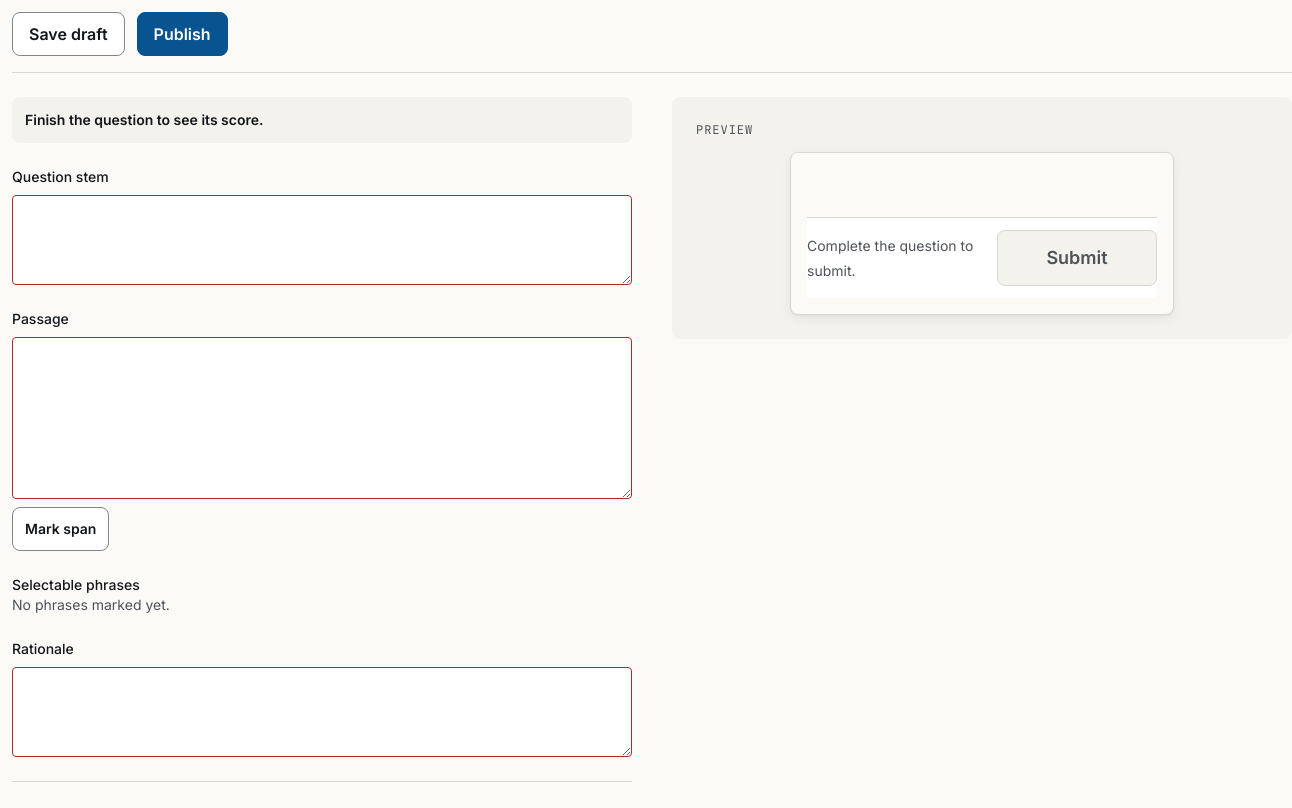
Test: HighlightTextEditor › marks the selected phrase as a span, listed with its own correct checkbox
Click the text box labelled "Passage" at point(322, 418), box [12, 337, 632, 499]
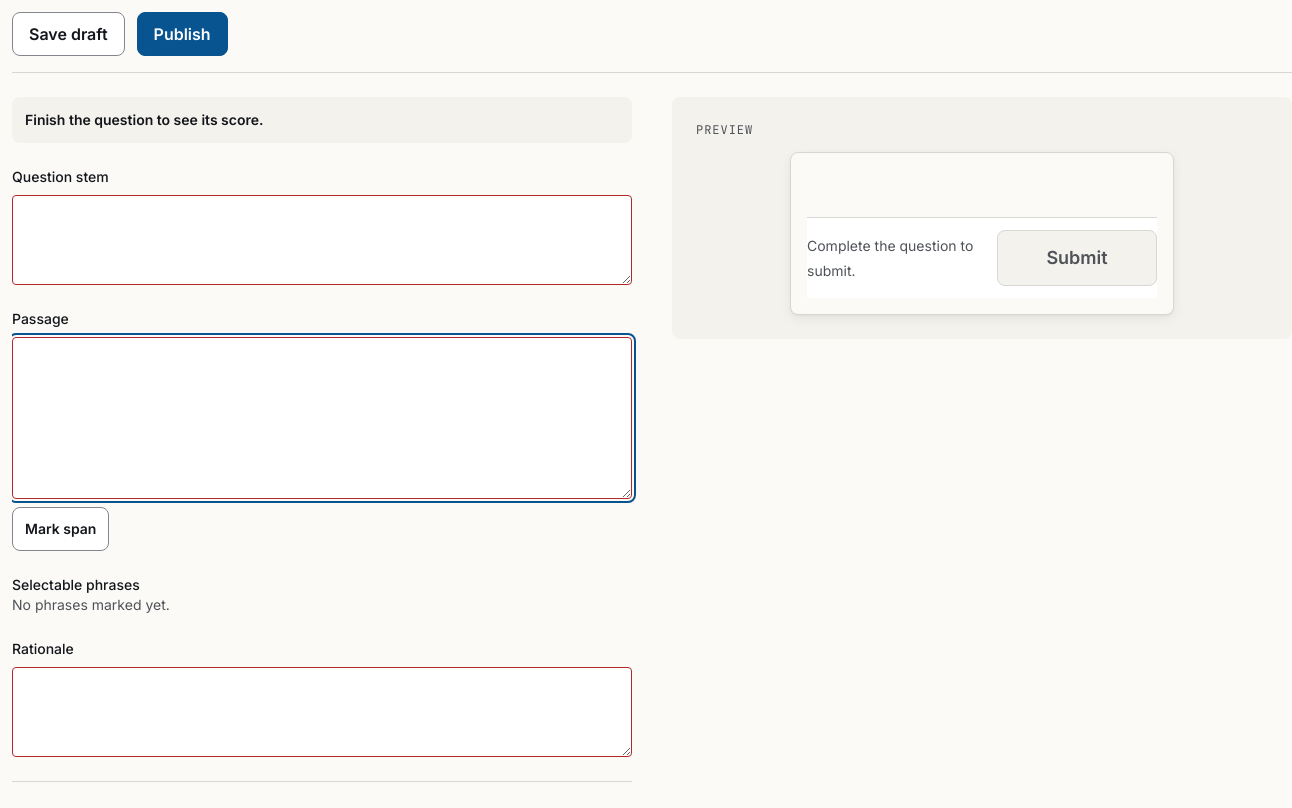
Type keys "Pulse 120 today"
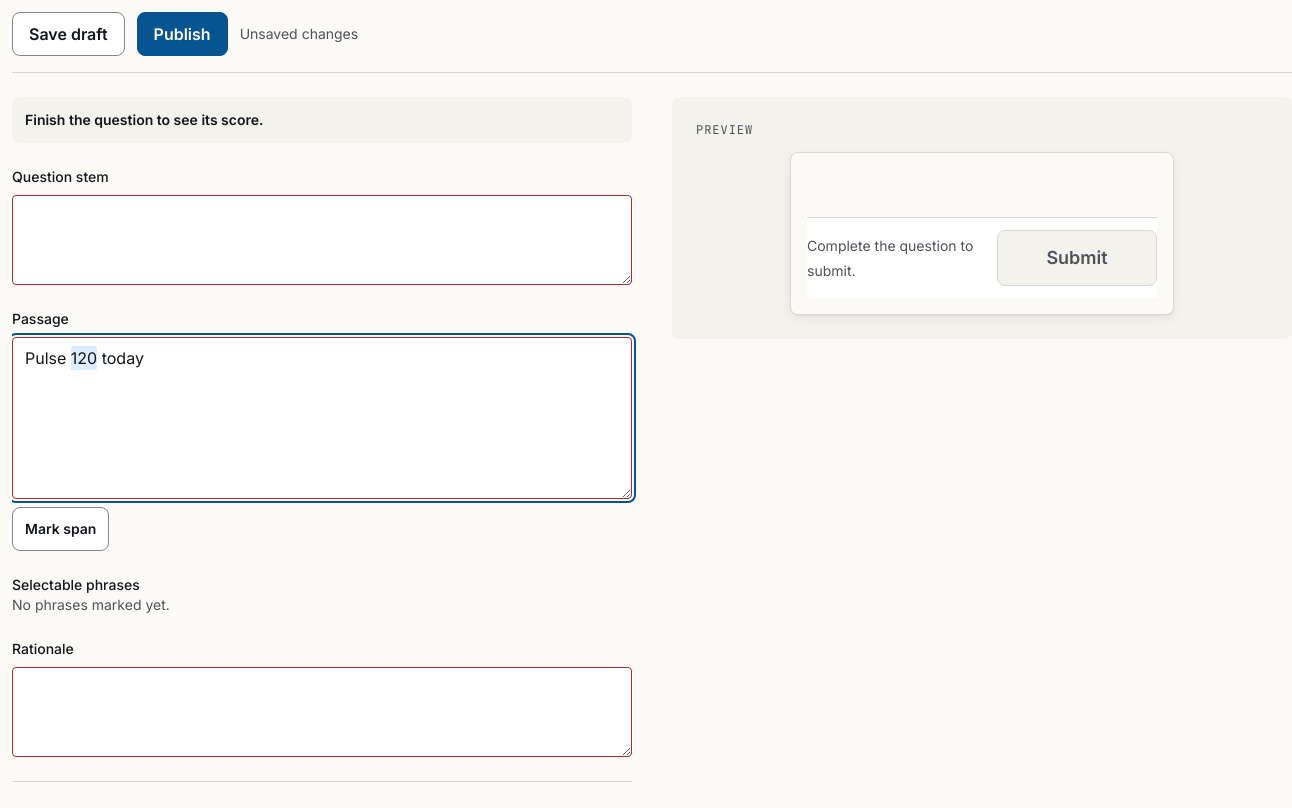
Click the button "Mark span" at point(61, 529), box [12, 507, 109, 551]
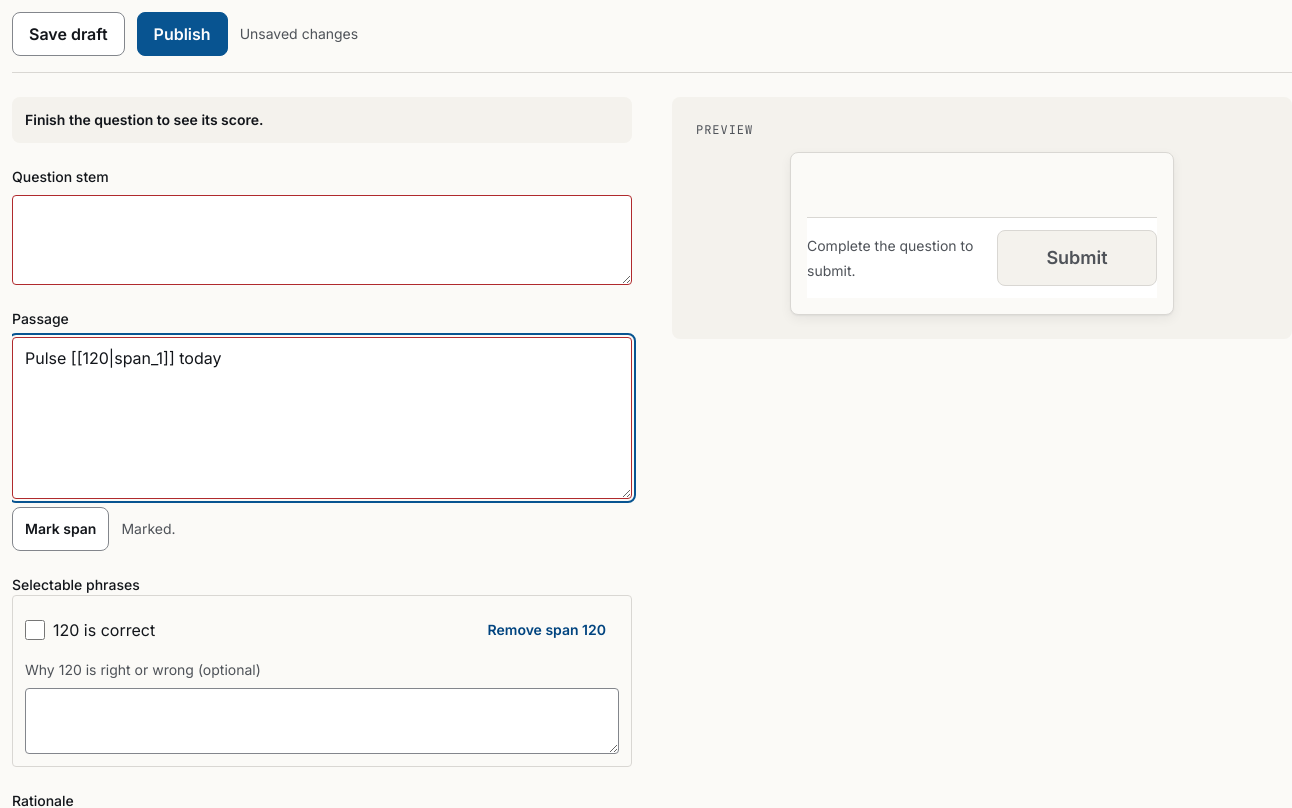
Check: the text box labelled "Passage" holds "Pulse [ [120|span_1]] today", box [12, 337, 632, 499]
Check: the checkbox labelled "120 is correct" is not checked, box [25, 620, 45, 640]
